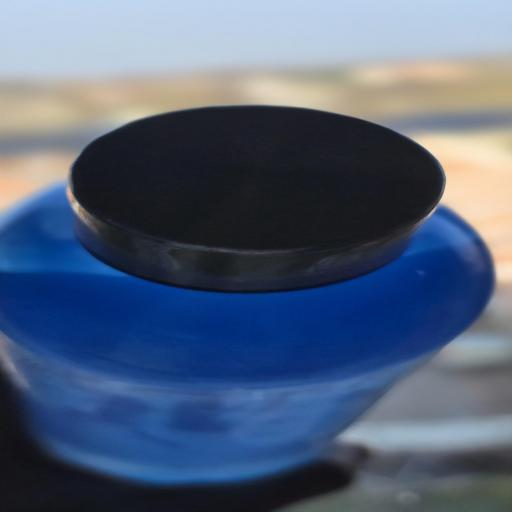bottle: (3, 69, 512, 512)
